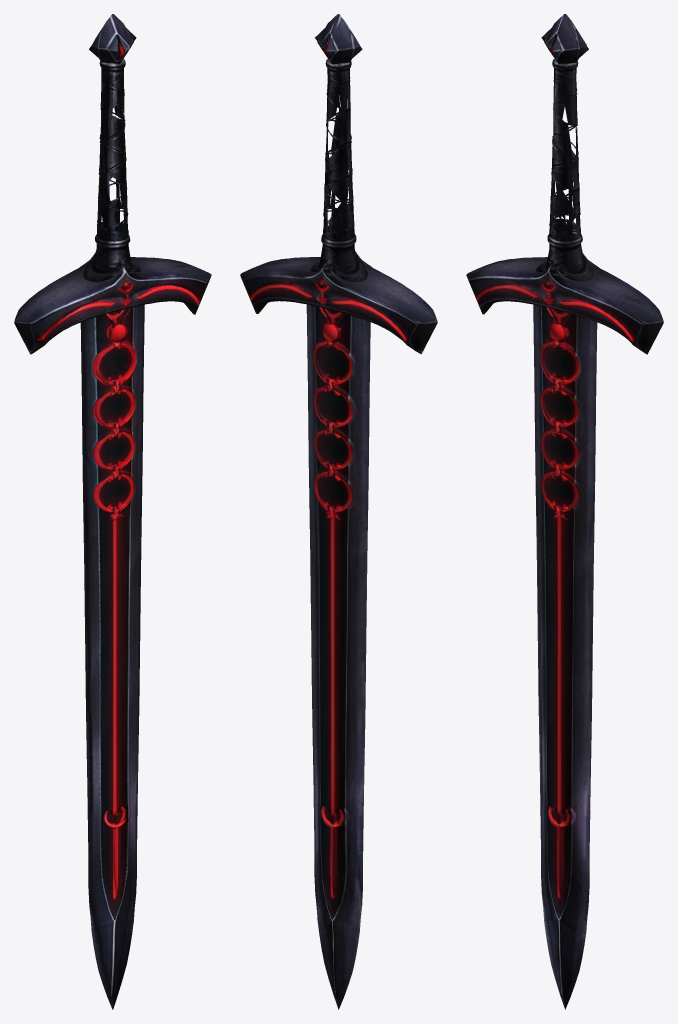
File: source-tripo.glb
3 renders of one model, left to right at view 1: azimuth 30°, elevation 25°; view 2: azimuth 150°, elevation 25°; view 3: azimuth 330°, elevation 25°, orthographic.
Parts seen in each view (by area): view 1: tripo_node_01dee9b4-180a-46bd-8656-819f98fccc76; view 2: tripo_node_01dee9b4-180a-46bd-8656-819f98fccc76; view 3: tripo_node_01dee9b4-180a-46bd-8656-819f98fccc76.
Boxes of the visible parts, <box> form: tripo_node_01dee9b4-180a-46bd-8656-819f98fccc76: <box>14,14,211,1009</box>; tripo_node_01dee9b4-180a-46bd-8656-819f98fccc76: <box>240,14,437,1009</box>; tripo_node_01dee9b4-180a-46bd-8656-819f98fccc76: <box>466,14,663,1009</box>.
Bounding box in the file's own units: 0.2075 × 0.9995 × 0.0552.
1 material, 1 textured.
